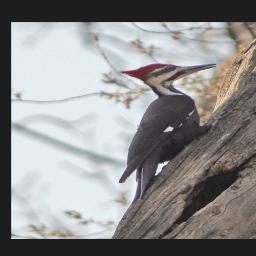Woodpecker: (116, 63, 220, 203)
